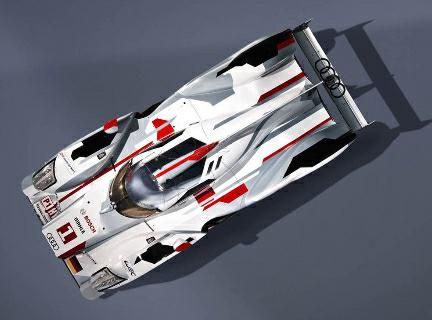奥迪-R18: (15, 21, 373, 300)
